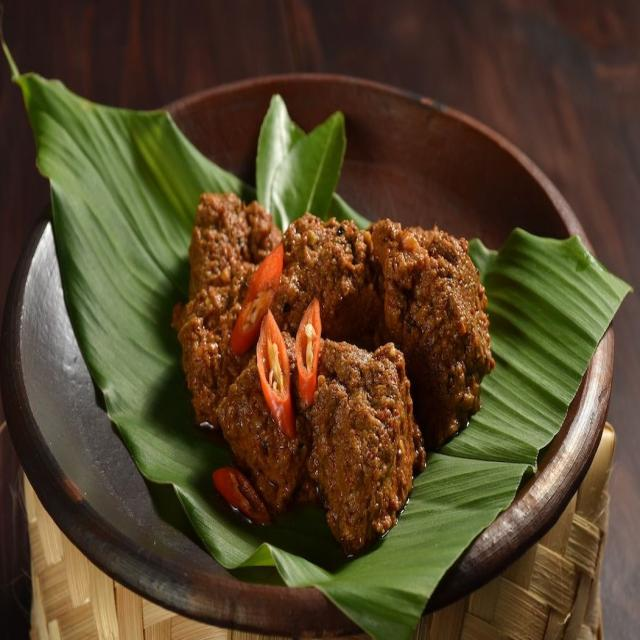Wet Waste: (172, 190, 489, 554)
